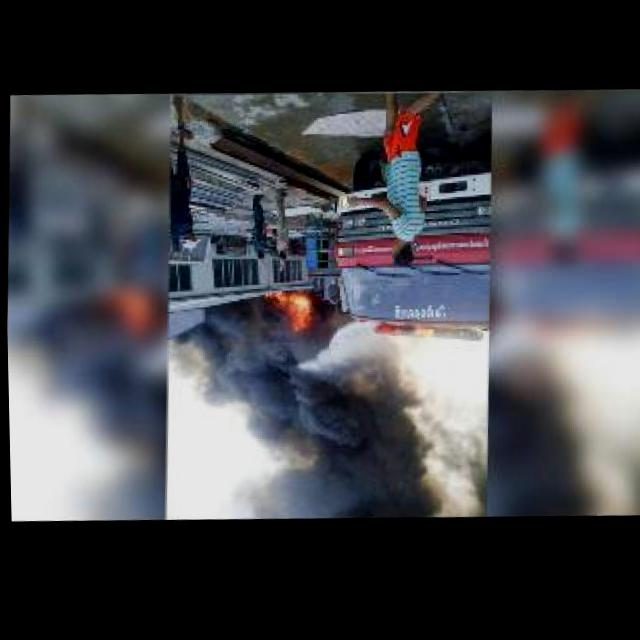Fire: (262, 287, 317, 343)
Smoke: (170, 316, 447, 530)
